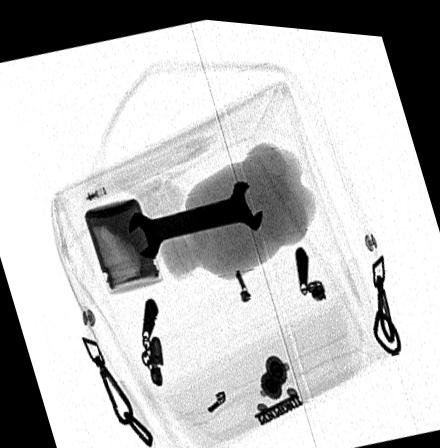Wrench: (125, 175, 263, 257)
